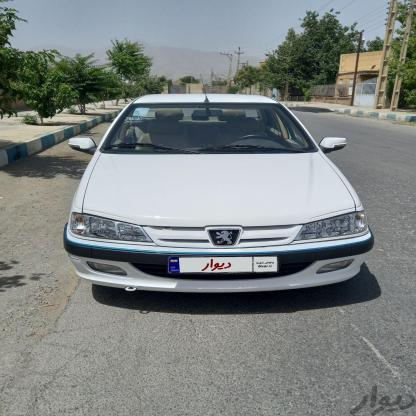Car: (75, 84, 370, 296)
